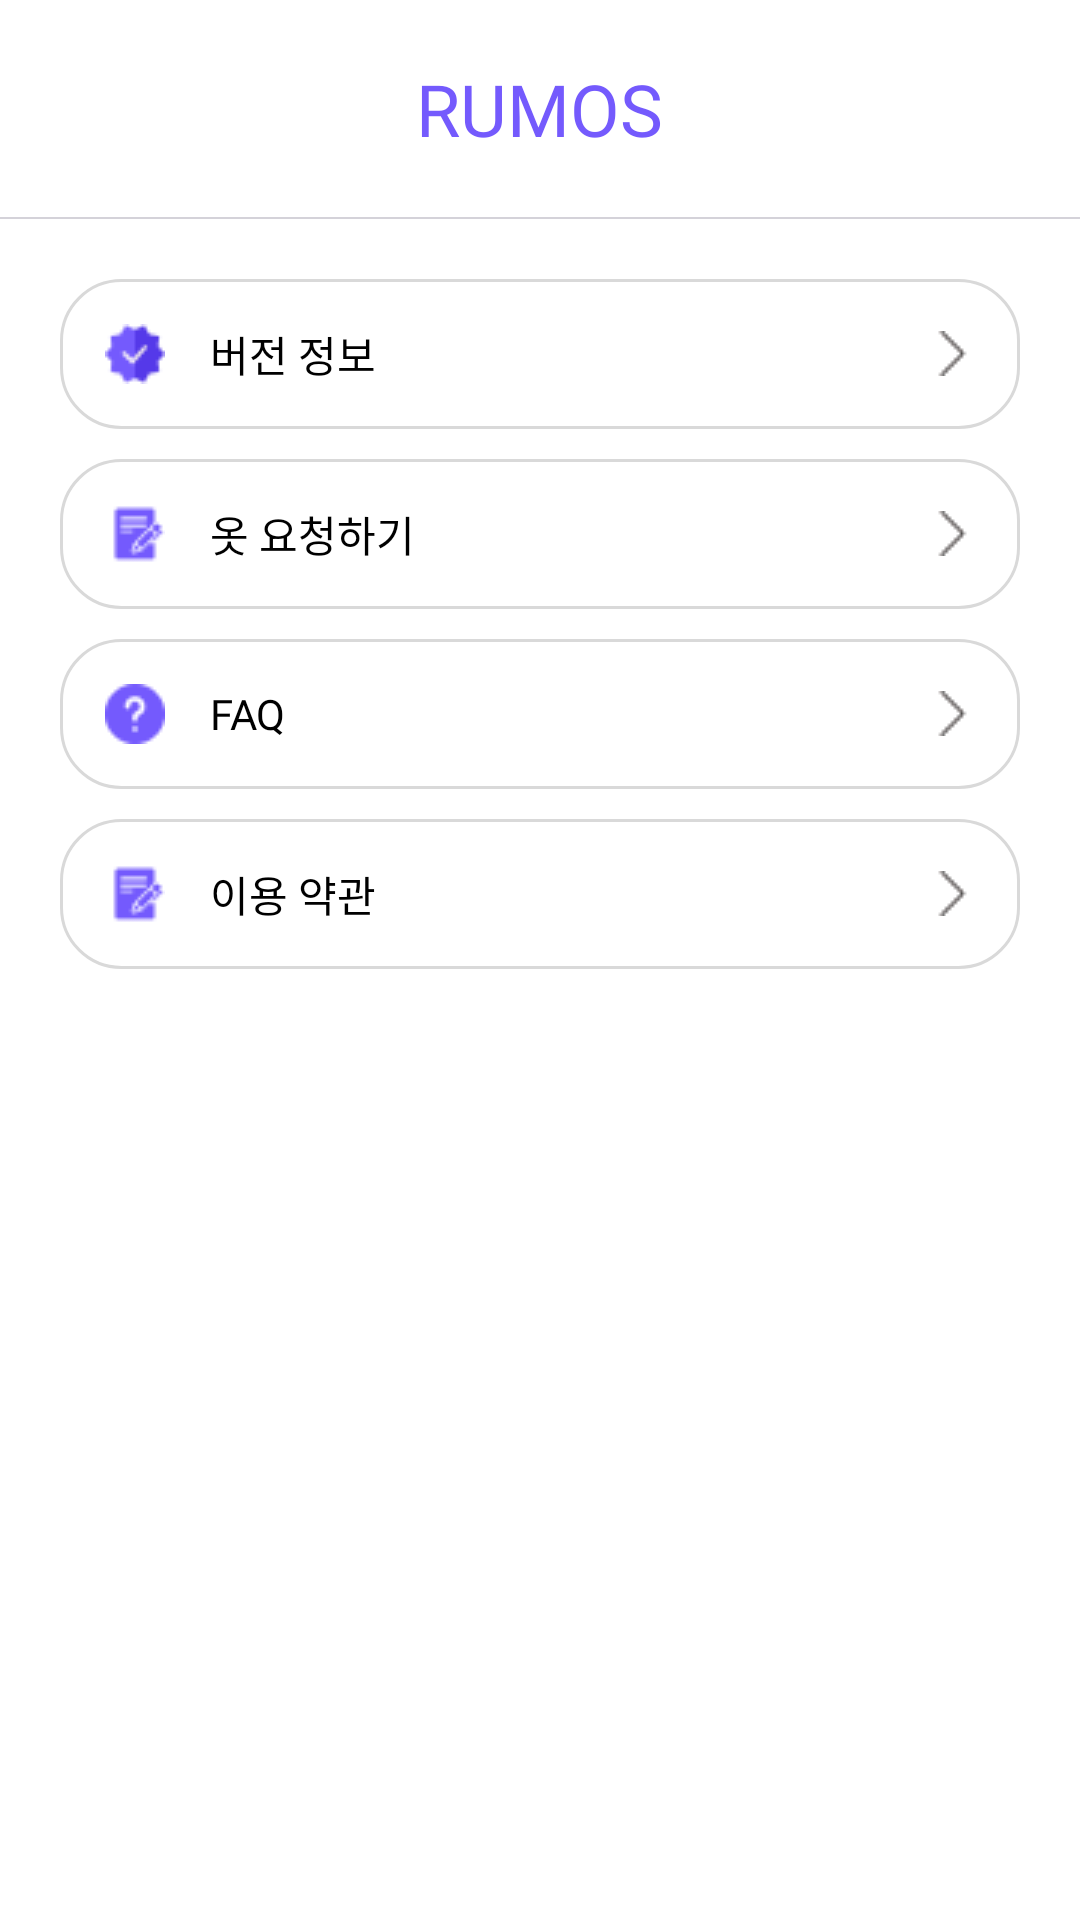

Icon bounding boxes for this 1080x1920 phone screenshot, format (x1, y1, x2, y2):
right arrow: (938, 331, 966, 376), (938, 511, 966, 556), (938, 691, 966, 736), (938, 871, 966, 916)
